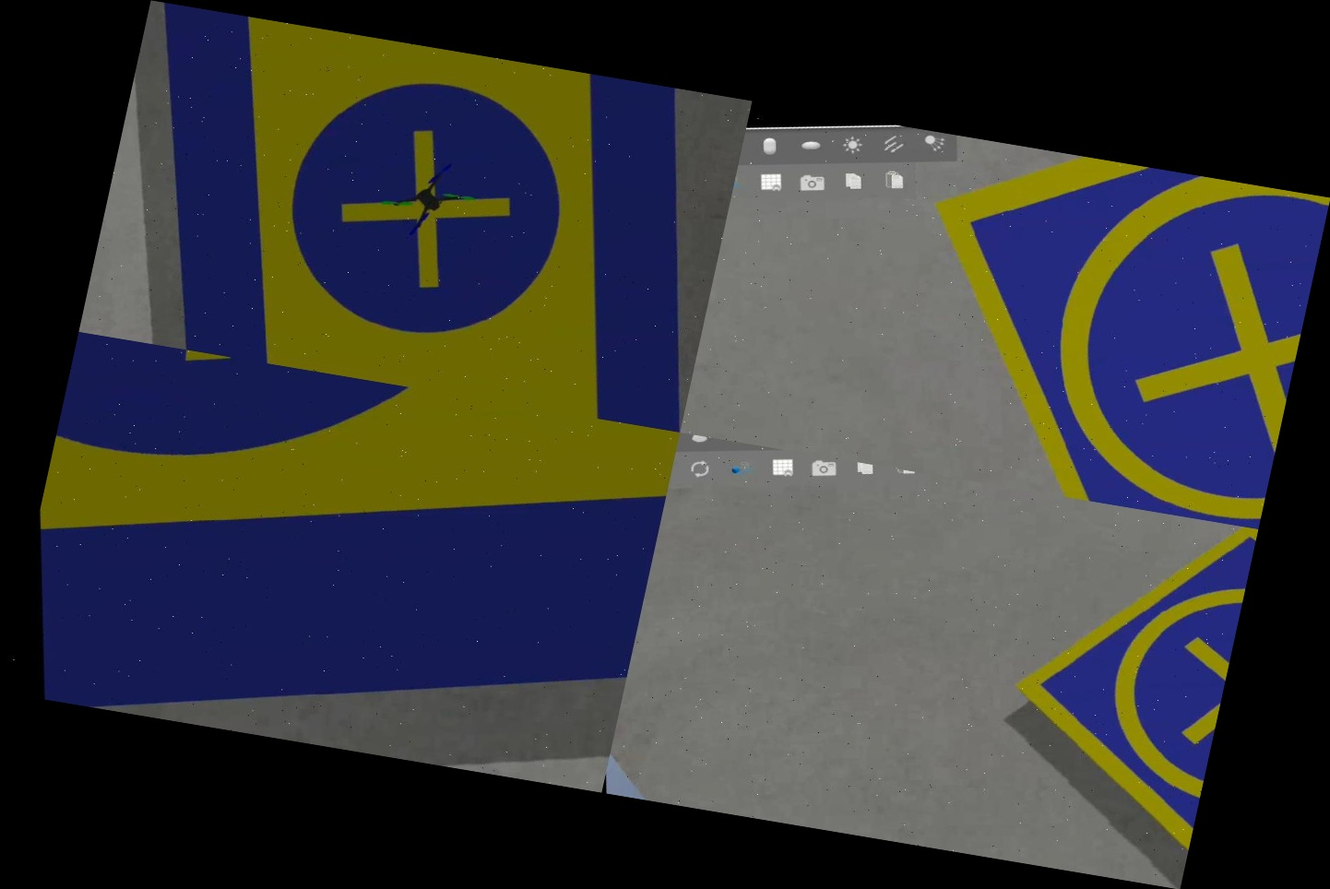large_base: (0, 332, 680, 792), (82, 1, 752, 433)
small_base: (858, 131, 1329, 529), (940, 489, 1257, 889)
